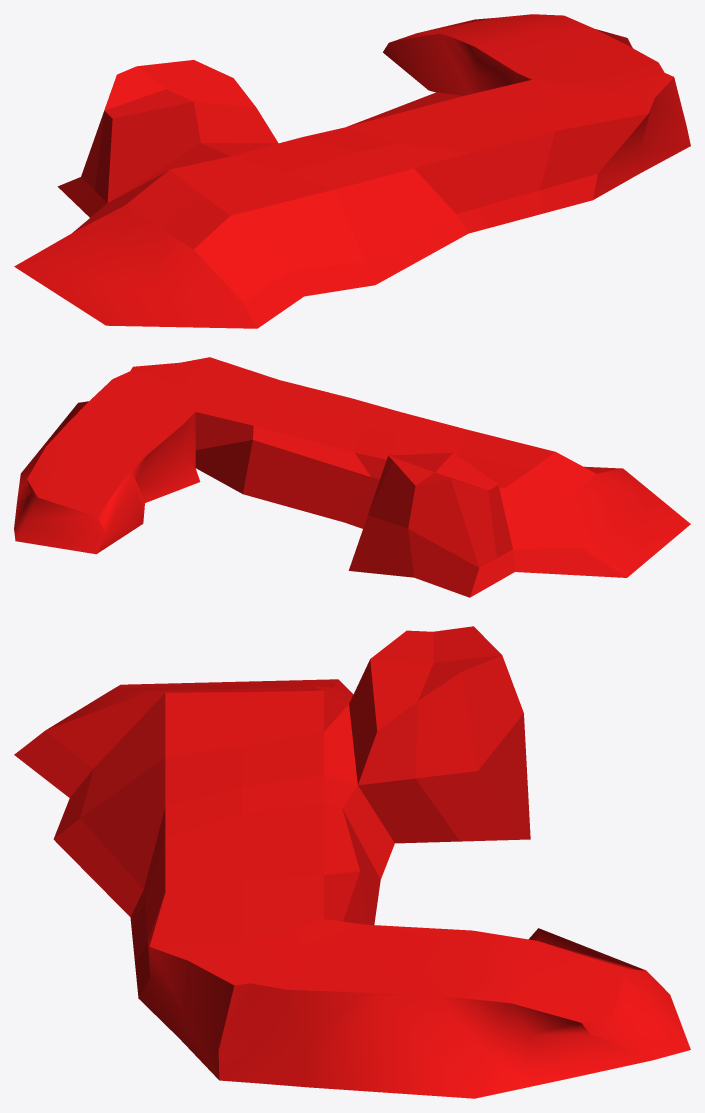
The model's file is Arena3RightRock.FBX.
3 renders of one model, top to bottom at view 1: azimuth 30°, elevation 25°; view 2: azimuth 150°, elevation 25°; view 3: azimuth 270°, elevation 25°, orthographic. The views are drawn at different scales.
Visible parts, largest first — view 1: Arena3RightRock; view 2: Arena3RightRock; view 3: Arena3RightRock.
Boxes of the visible parts, bbox=[...] form: Arena3RightRock: bbox=[14, 14, 690, 328]; Arena3RightRock: bbox=[14, 357, 690, 597]; Arena3RightRock: bbox=[14, 626, 690, 1098].
Bounding box in the file's own units: 4750 × 3240 × 803.
